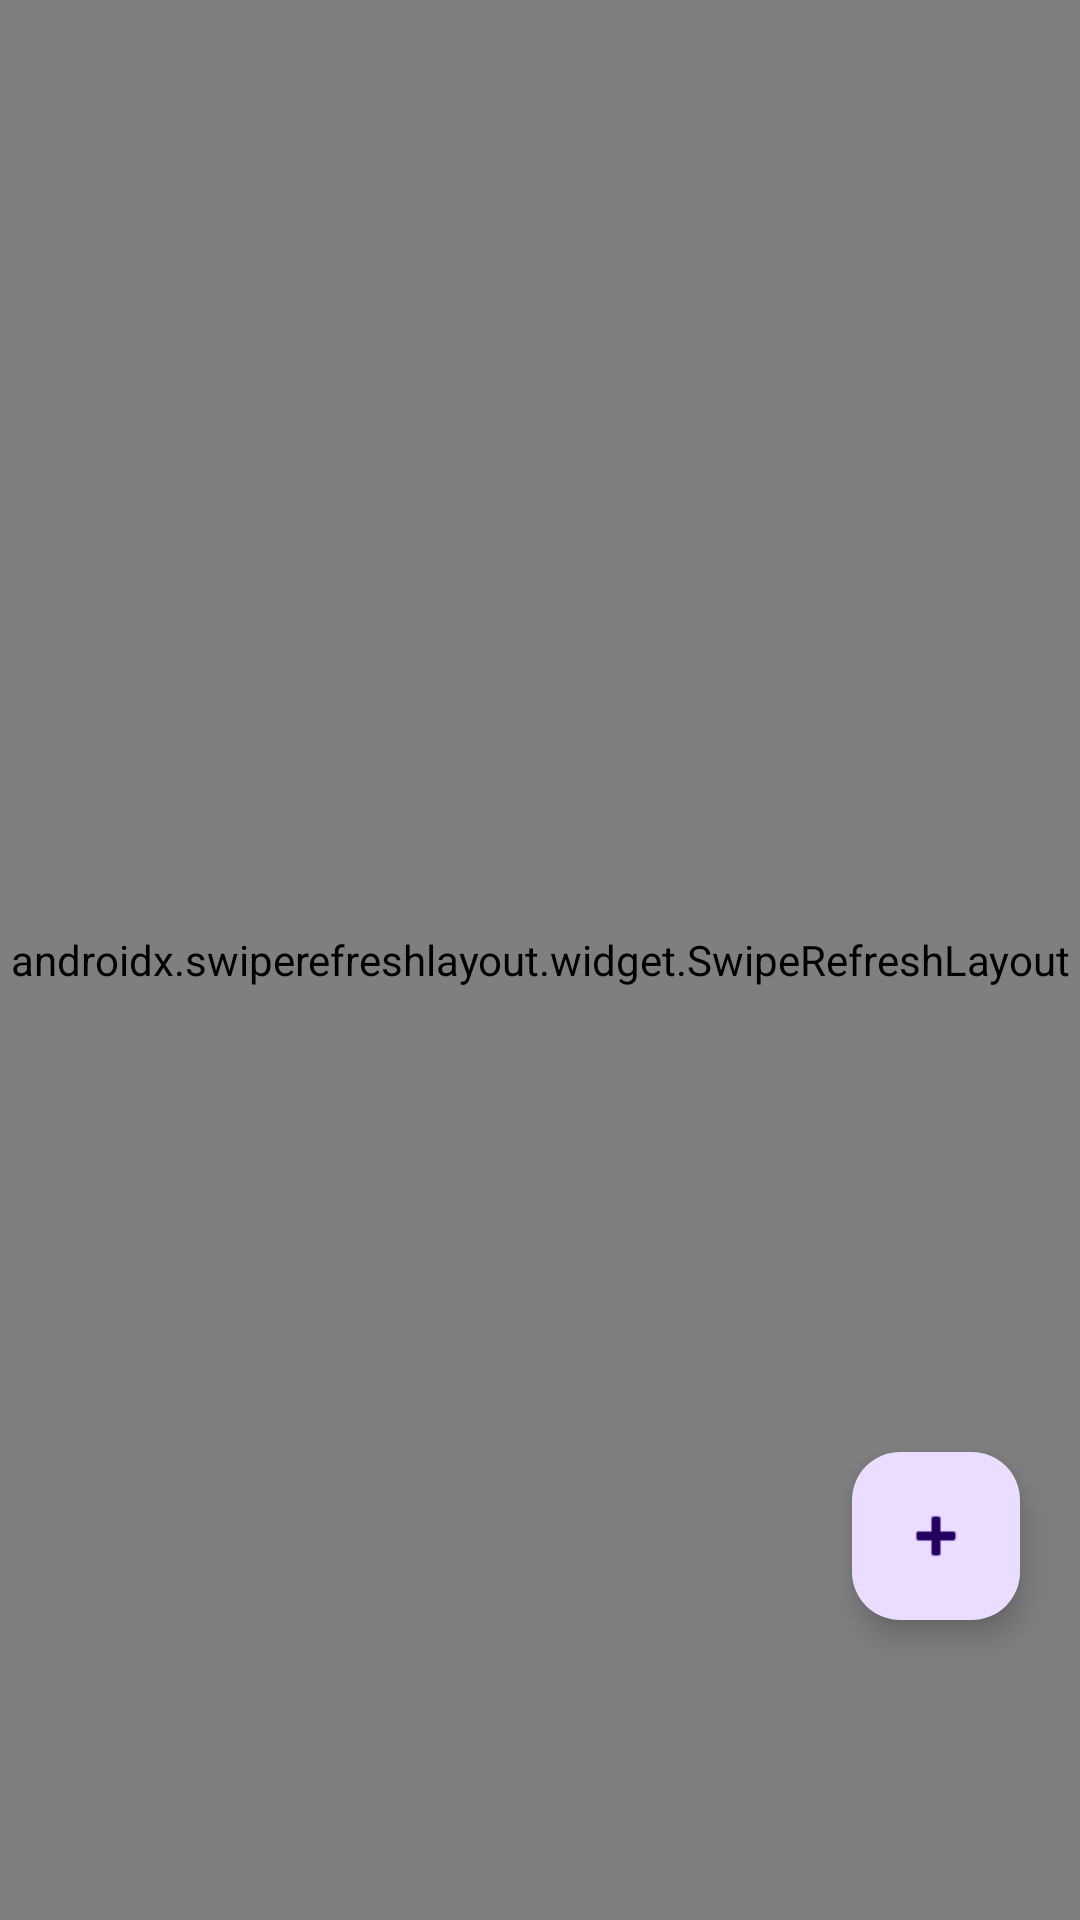

Icon bounding boxes for this 1080 x 1920 phone screenshot, format (x1=x1, y1=y1, x2=x2, y2=y2):
add: (x1=852, y1=1452, x2=1020, y2=1620)
